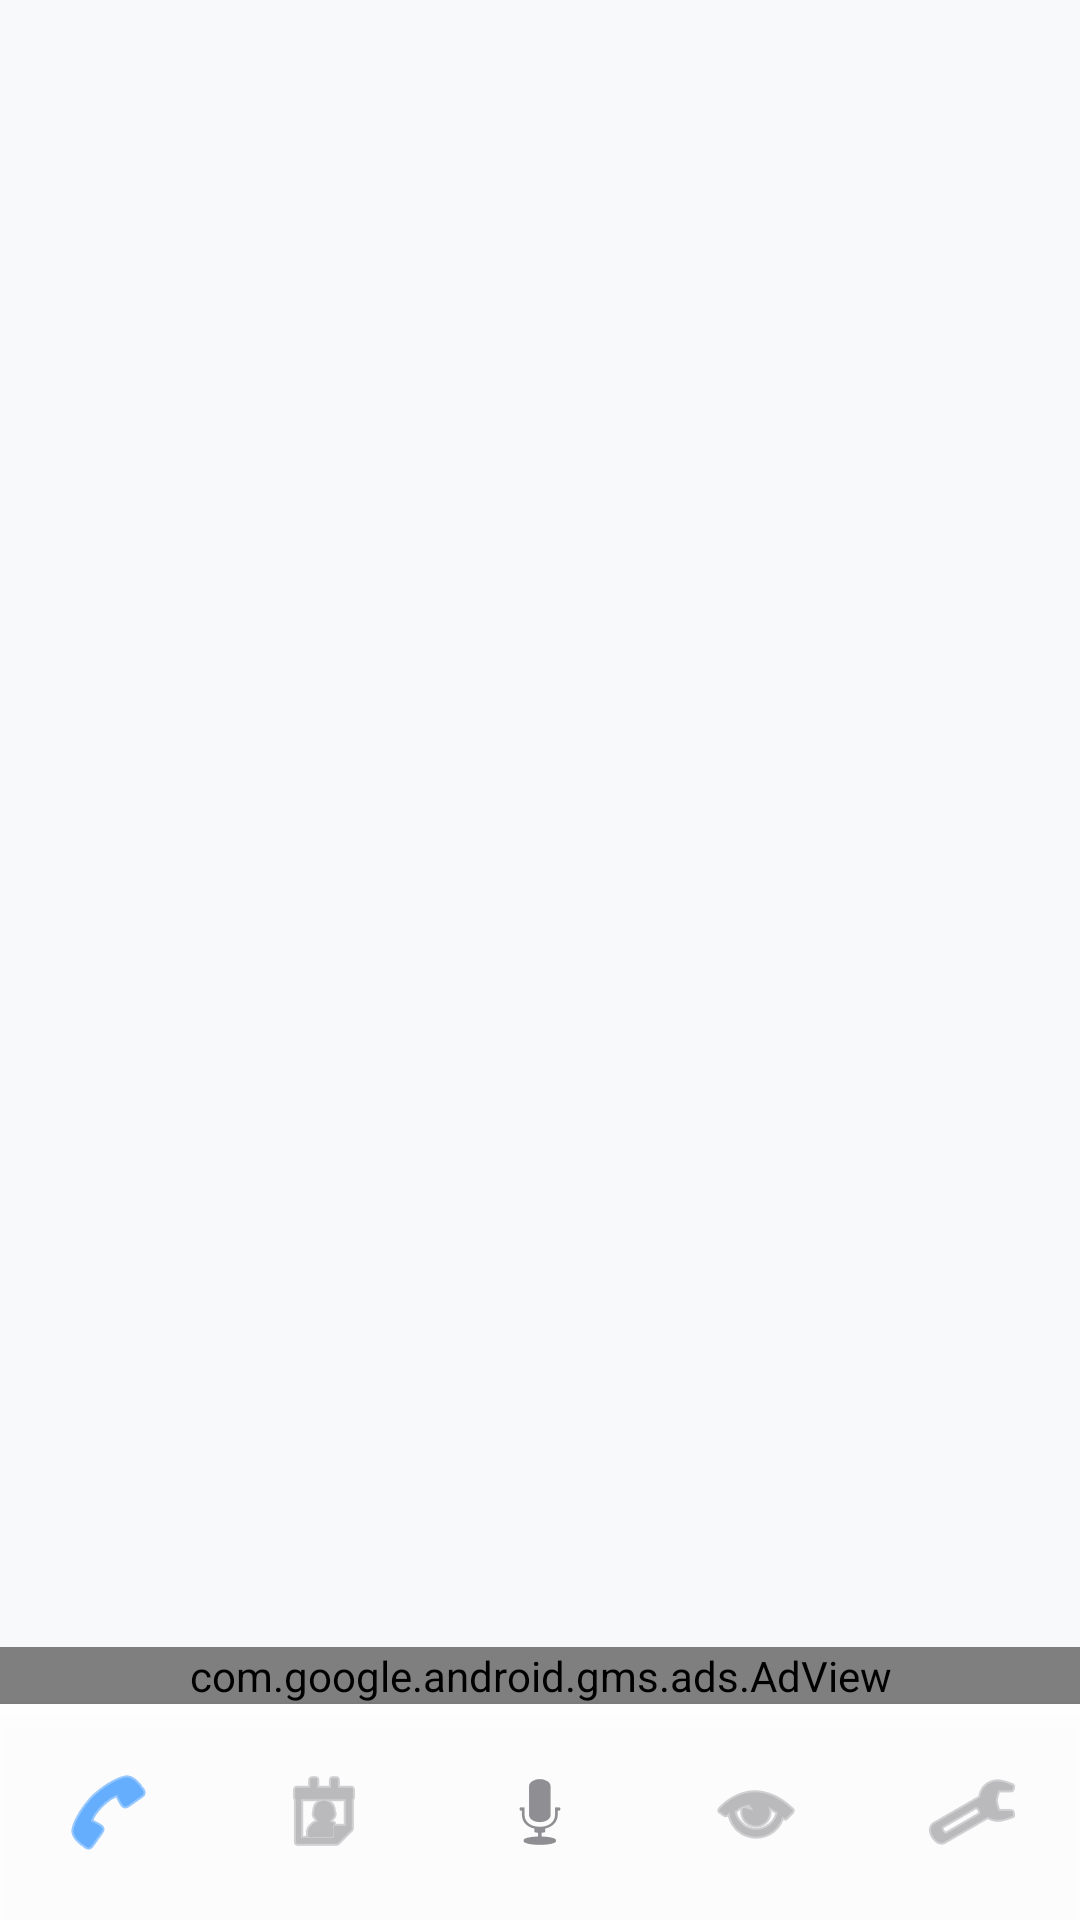

Icons on this 1080px×1920px Android screen, each with the point to tap as point (x, y):
calendar: point (324, 1811)
call: point (108, 1812)
preferences: point (972, 1812)
speak now: point (540, 1812)
